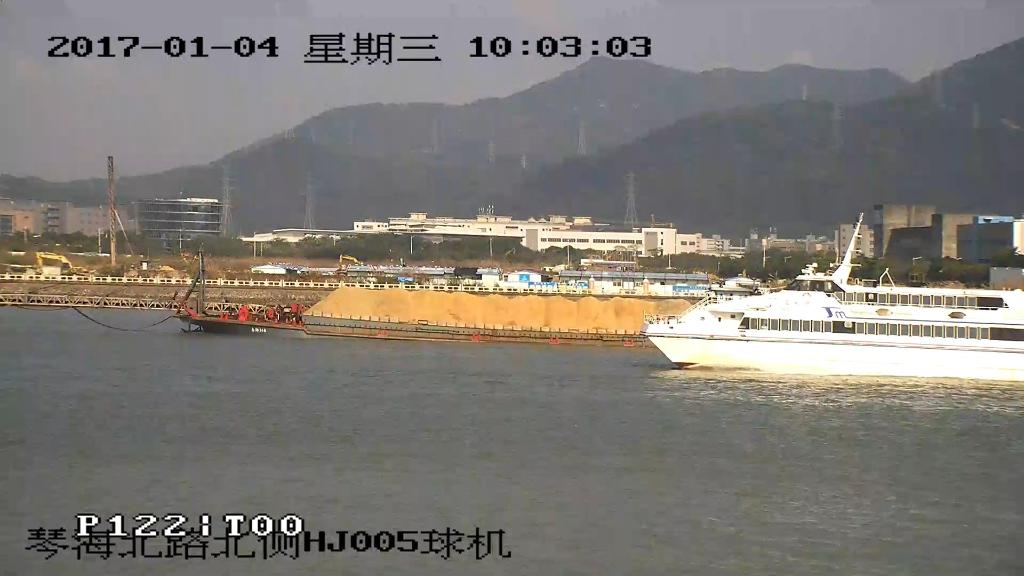PassengerShip: (630, 216, 1024, 380)
